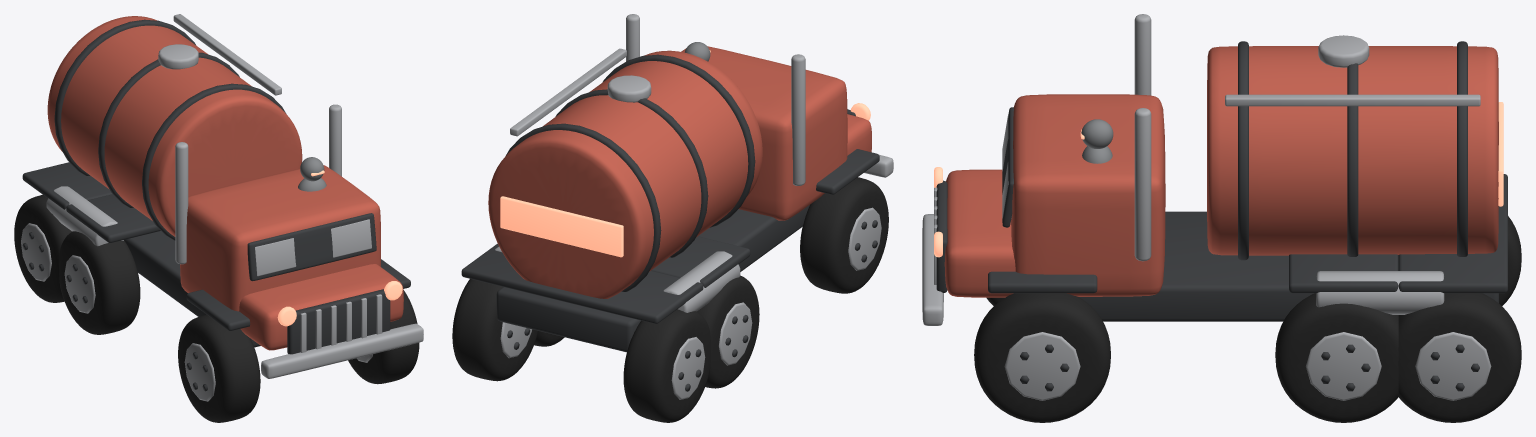
The model's file is vehicle_fueltruck.glb.
3 renders of one model, left to right at view 1: azimuth 30°, elevation 25°; view 2: azimuth 150°, elevation 25°; view 3: azimuth 270°, elevation 25°, orthographic. The views are drawn at different scales.
Visible parts, largest first — view 1: Cylinder.041, Cube.001, Cylinder.011, Cube.002, Cylinder.025, Cube.013, Cube.006, Cube.003, Cylinder.039, Cube, Cylinder.004, Cube.015 (+16 smaller); view 2: Cylinder.041, Cube.001, Cube, Cylinder.011, Cylinder.039, Cube.016, Cylinder.032, Cube.019, Cylinder.025, Cube.015, Cylinder.044, Cylinder.042 (+13 smaller); view 3: Cylinder.041, Cube.001, Cylinder.004 (×2), Cube, Cylinder.032, Cylinder.018, Cube.002, Cube.016, Cylinder.016, Cylinder.028, Cylinder.046, Cube.015 (+14 smaller).
Boxes of the visible parts, x1,y1,x2,y2 form: Cylinder.041: (47,16,302,236); Cube.001: (180,165,380,311); Cylinder.011: (178,314,260,422); Cube.002: (239,264,403,350); Cylinder.025: (59,231,140,334); Cube.013: (261,323,423,378); Cube.006: (287,289,390,354); Cube.003: (247,213,376,281); Cylinder.039: (14,194,71,302); Cube: (124,231,260,347); Cylinder.004: (348,290,419,384); Cube.015: (66,194,160,242); Cylinder.041: (488,50,762,298); Cube.001: (681,46,847,220); Cube: (496,205,809,352); Cylinder.011: (800,177,888,293); Cylinder.039: (623,309,710,422); Cube.016: (461,243,703,323); Cylinder.032: (452,279,538,381); Cube.019: (500,196,623,257); Cylinder.025: (697,275,759,388); Cube.015: (651,236,750,287); Cylinder.044: (506,123,661,291); Cylinder.042: (602,54,755,227); Cylinder.041: (1207,46,1498,255); Cube.001: (1011,94,1165,296); Cylinder.004 (×2): (974,293,1110,422); Cube: (1079,211,1498,321); Cylinder.032: (1398,293,1521,422); Cylinder.018: (1275,293,1398,422); Cube.002: (944,169,1015,297); Cube.016: (1398,174,1507,293); Cylinder.016: (1306,332,1381,400); Cylinder.028: (1415,332,1491,400); Cylinder.046: (1316,271,1444,314); Cube.015: (1289,254,1398,293).
Bounding box in the file's own units: 1.61 × 1.96 × 3.28.
